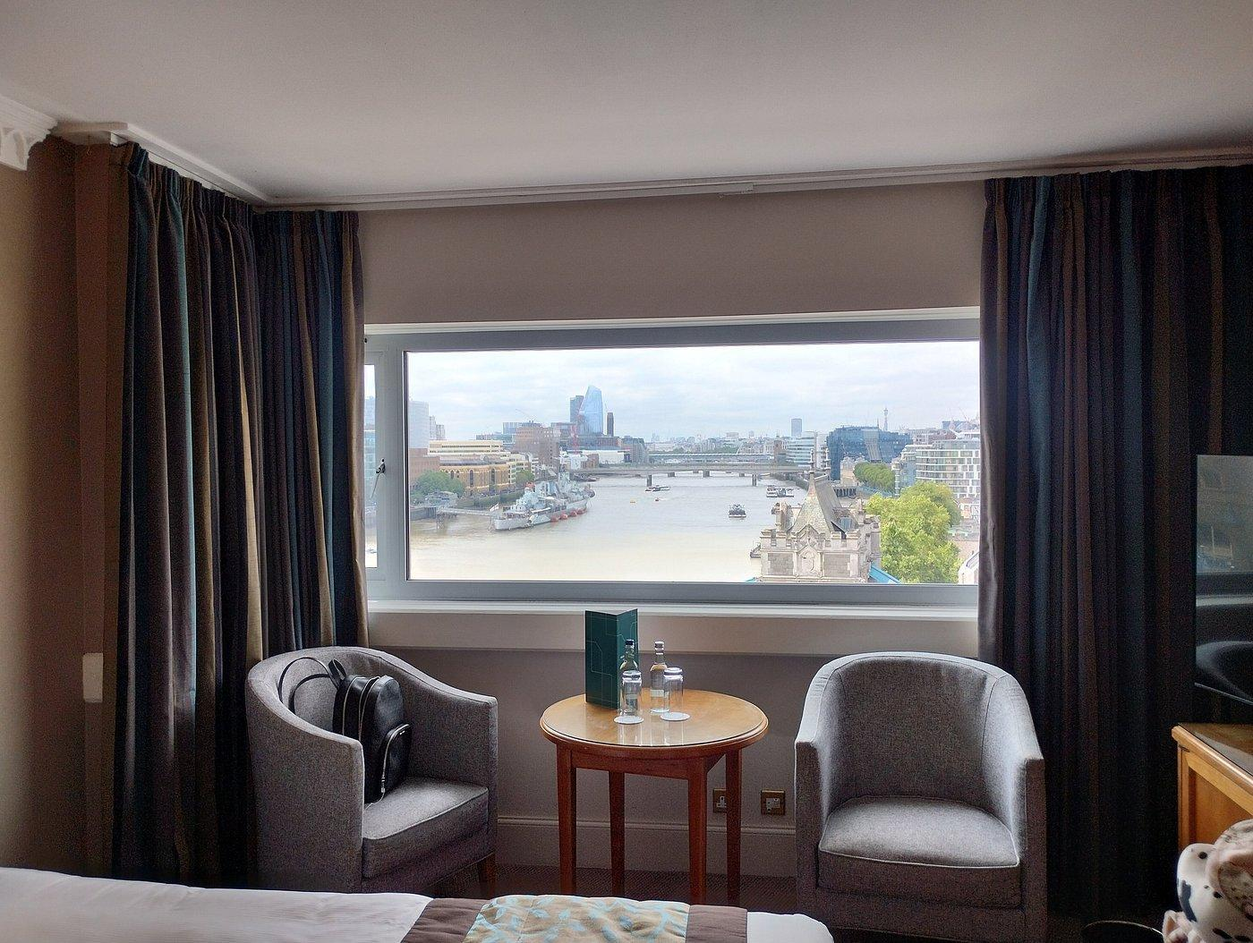chair: (801, 653, 1047, 930)
organized table: (536, 655, 774, 889)
